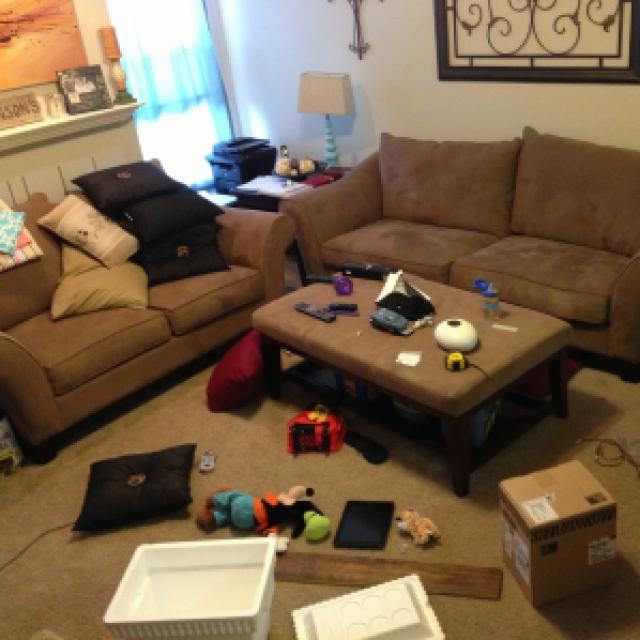mess: (13, 205, 632, 637)
